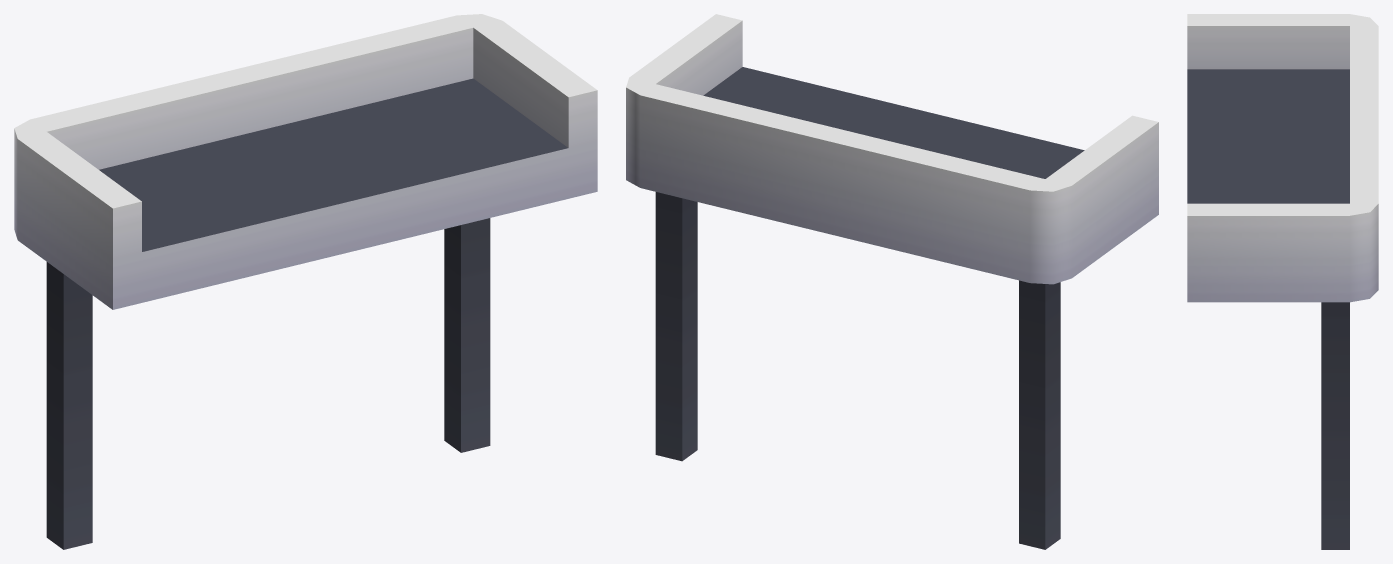
The model's file is detail-overhang.glb.
3 views of the same model, side by side, from view 1: azimuth 30°, elevation 25°; view 2: azimuth 150°, elevation 25°; view 3: azimuth 270°, elevation 25° (orthographic). The views are drawn at different scales.
Visible parts, largest first — view 1: detail-overhang; view 2: detail-overhang; view 3: detail-overhang.
Boxes of the visible parts, box(x1,y1,x2,y2) form: detail-overhang: box(14, 14, 597, 549); detail-overhang: box(626, 14, 1158, 549); detail-overhang: box(1187, 14, 1378, 549).
Bounding box in the file's own units: 0.5 × 0.4 × 0.2.
Materials: 1 (1 with a texture image).
